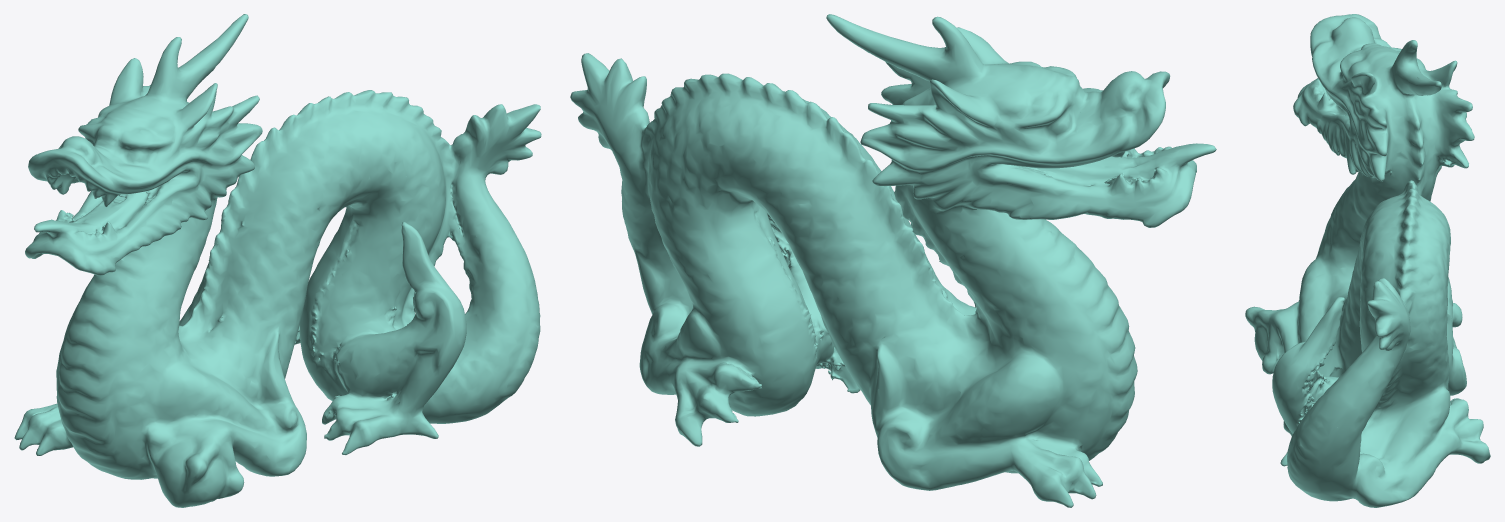
File: dragon.fbx
The picture shows the model from 3 angles, left to right: view 1: azimuth 30°, elevation 25°; view 2: azimuth 150°, elevation 25°; view 3: azimuth 270°, elevation 25°; orthographic projection. The views are drawn at different scales.
Visible parts, largest first — view 1: dragon; view 2: dragon; view 3: dragon.
Part boxes in pixels (box(x1,y1,x2,y2)): dragon: box(14, 14, 541, 507); dragon: box(570, 14, 1216, 507); dragon: box(1245, 14, 1490, 507).
Size of the model in its own units: 141 by 99.4 by 63.
